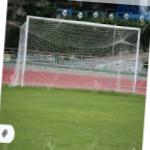goals: (12, 14, 141, 94)
